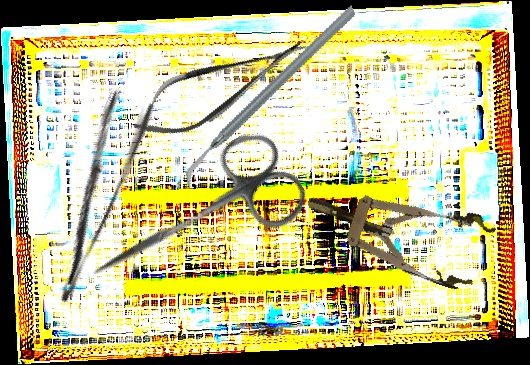Chopper: (148, 3, 393, 191)
Dressing Forceps: (24, 86, 159, 308)
Iris Scissors: (71, 121, 315, 321)
Micro Scissor: (120, 18, 321, 155)
Speculum: (296, 163, 499, 296)
